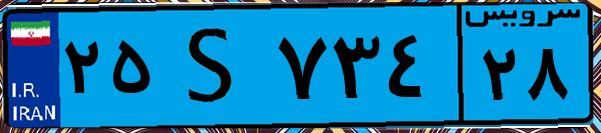2: (57, 26, 110, 100), (475, 38, 525, 113)
3: (330, 28, 385, 110)
4: (385, 28, 445, 110)
5: (110, 28, 158, 98)
7: (270, 28, 330, 110)
8: (525, 38, 570, 115)
S: (158, 12, 270, 120)
